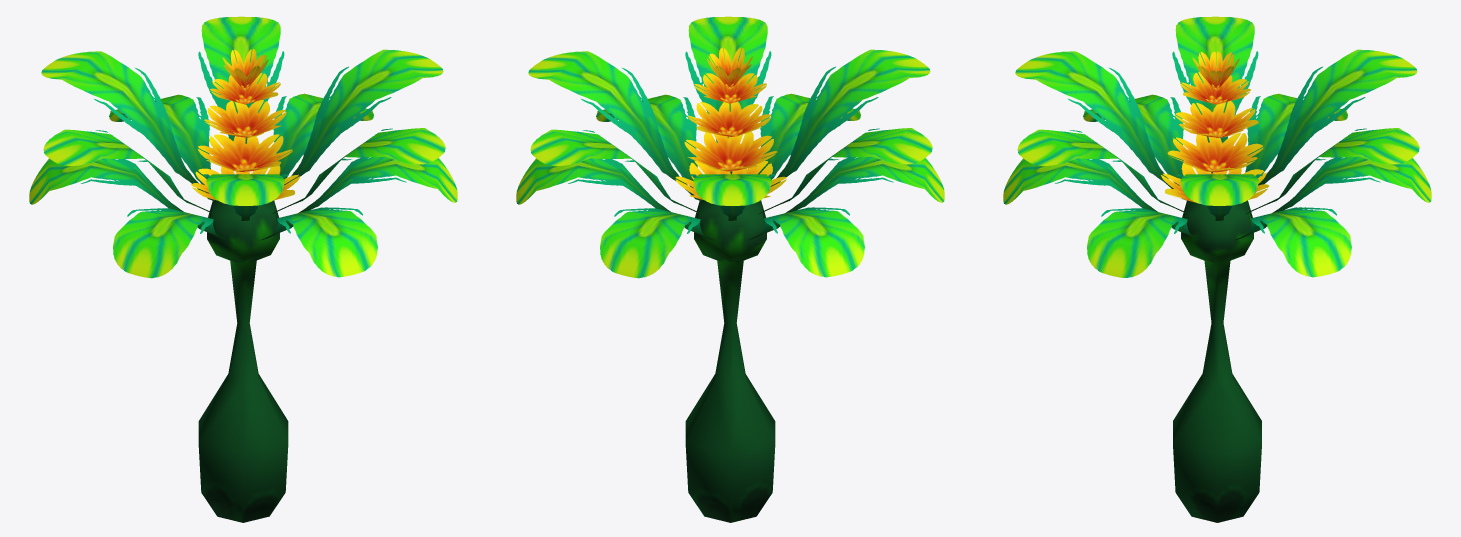
Rendered from Green_Bush_01c.FBX.
3 views of the same model, side by side, from view 1: azimuth 30°, elevation 25°; view 2: azimuth 150°, elevation 25°; view 3: azimuth 270°, elevation 25° (orthographic).
Parts seen in each view (by area): view 1: Green_Bush_01c; view 2: Green_Bush_01c; view 3: Green_Bush_01c.
Part boxes in pixels (x1,y1,x2,y2): Green_Bush_01c: (29,16,457,522); Green_Bush_01c: (516,16,944,522); Green_Bush_01c: (1003,16,1431,522).
Size of the model in its own units: 118 by 128 by 115.
